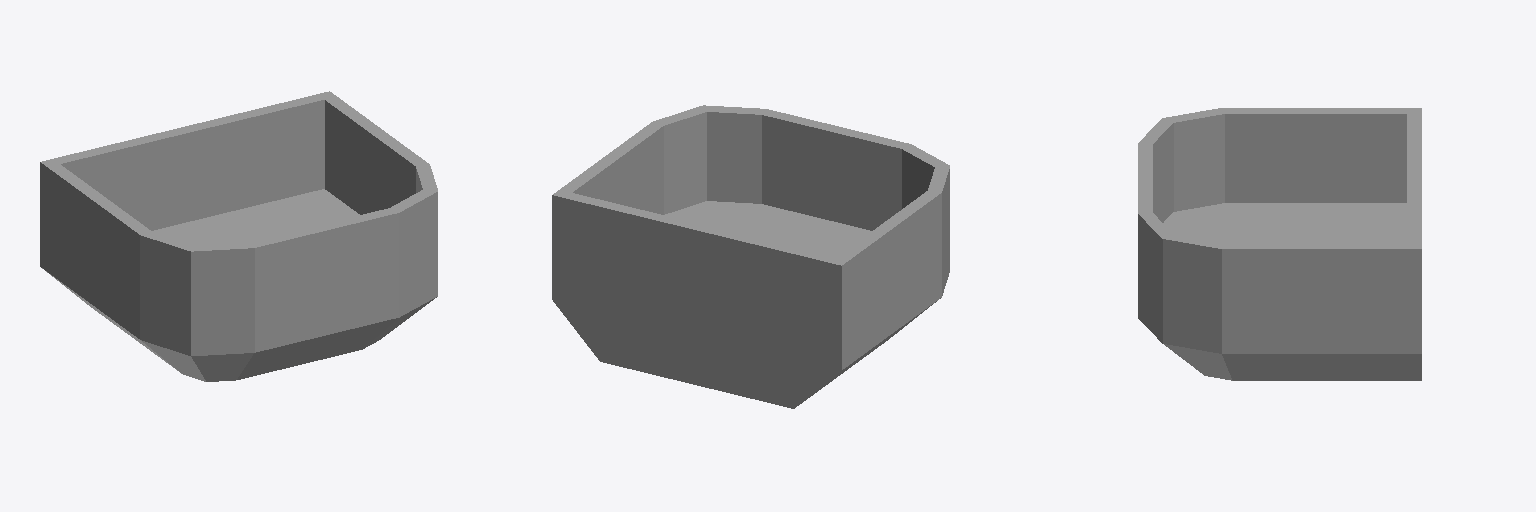
3 renders of one model, left to right at view 1: azimuth 30°, elevation 25°; view 2: azimuth 150°, elevation 25°; view 3: azimuth 270°, elevation 25°, orthographic.
Parts seen in each view (by area): view 1: pCube30; view 2: pCube30; view 3: pCube30.
Part boxes in pixels (x1,y1,x2,y2): pCube30: (40,91,437,381); pCube30: (552,105,949,408); pCube30: (1138,108,1421,380).
Bounding box in the file's own units: 1.96 × 1 × 1.66.
Materials: 1 (1 with a texture image).